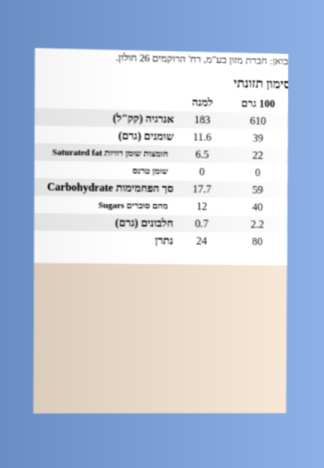carbs: (251, 183, 264, 197)
energy: (249, 113, 267, 128)
fat: (251, 131, 265, 145)
protein: (249, 217, 265, 231)
